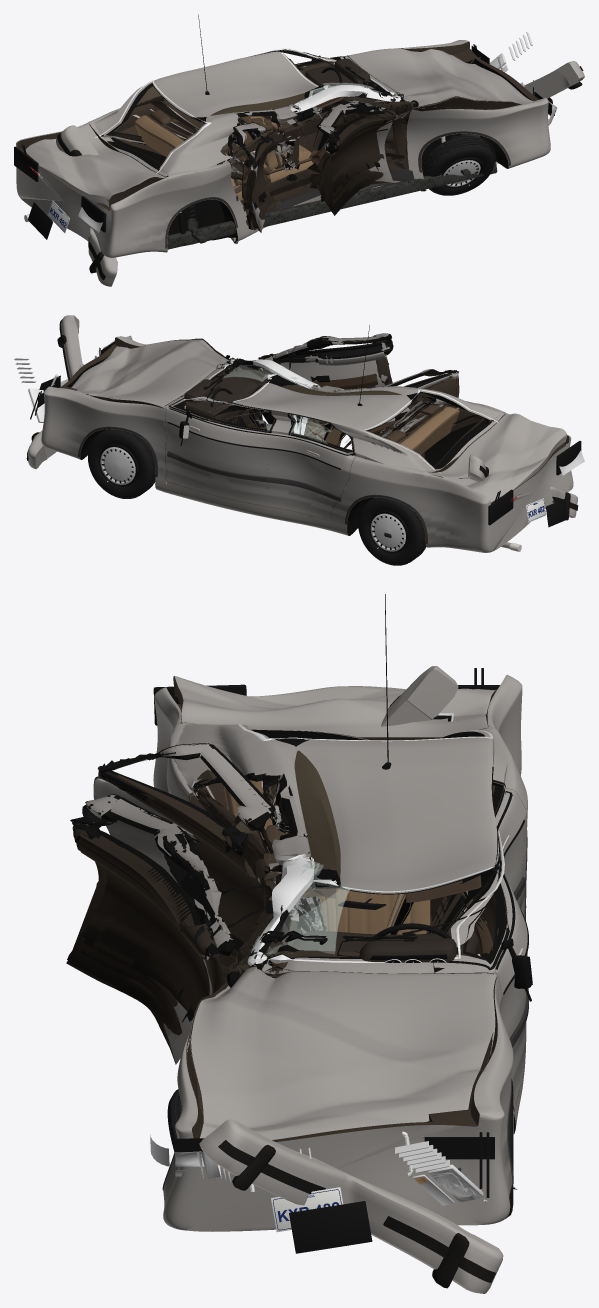
The model's file is sedan87_side_R_d3.glb.
The picture shows the model from 3 angles, top to bottom: view 1: azimuth 30°, elevation 25°; view 2: azimuth 150°, elevation 25°; view 3: azimuth 270°, elevation 25°; orthographic projection. The views are drawn at different scales.
Parts seen in each view (by area): view 1: Body, Hood, Door_FR, Trunk, Interior, Underbody, Wheel_FR_mesh, Ends, Glass, Door_RR, Bumper_R, Trim (+4 smaller); view 2: Body, Door_FL, Hood, Trunk, Door_RL, Interior, Wheel_FL_mesh, Door_FR, Wheel_RL_mesh, Ends, Glass, Bumper_F (+8 smaller); view 3: Body, Hood, Door_FR, Bumper_F, Door_RR, Trunk, Ends, Interior, Glass, Door_FL, Trim_FL, Bumper_R (+4 smaller).
Part boxes in pixels (left/top/right/bottom): Body: left=16, top=40, right=550, bottom=257; Hood: left=345, top=48, right=533, bottom=109; Door_FR: left=307, top=100, right=397, bottom=215; Trunk: left=25, top=124, right=164, bottom=207; Interior: left=134, top=58, right=393, bottom=200; Underbody: left=24, top=133, right=497, bottom=249; Wheel_FR_mesh: left=423, top=136, right=494, bottom=195; Ends: left=14, top=32, right=556, bottom=239; Glass: left=95, top=48, right=400, bottom=173; Door_RR: left=233, top=122, right=277, bottom=232; Bumper_R: left=56, top=125, right=117, bottom=286; Trim: left=165, top=14, right=510, bottom=248; Body: left=41, top=336, right=573, bottom=552; Door_FL: left=165, top=395, right=276, bottom=505; Hood: left=71, top=338, right=229, bottom=408; Trunk: left=429, top=413, right=566, bottom=502; Door_RL: left=263, top=412, right=356, bottom=520; Interior: left=182, top=364, right=459, bottom=454; Wheel_FL_mesh: left=88, top=429, right=155, bottom=498; Door_FR: left=258, top=333, right=393, bottom=387; Wheel_RL_mesh: left=358, top=497, right=425, bottom=565; Ends: left=14, top=335, right=584, bottom=527; Glass: left=184, top=358, right=498, bottom=478; Bumper_F: left=26, top=315, right=82, bottom=469; Body: left=153, top=675, right=527, bottom=1231; Hood: left=190, top=966, right=497, bottom=1139; Door_FR: left=66, top=794, right=235, bottom=1064; Bumper_F: left=199, top=1119, right=503, bottom=1293; Door_RR: left=93, top=743, right=275, bottom=982; Trunk: left=173, top=676, right=496, bottom=740; Ends: left=150, top=668, right=499, bottom=1253; Interior: left=224, top=778, right=481, bottom=967; Glass: left=229, top=713, right=504, bottom=966; Door_FL: left=434, top=835, right=527, bottom=1103; Trim_FL: left=337, top=826, right=532, bottom=1047; Bumper_R: left=381, top=666, right=458, bottom=726.
Bounding box in the file's own units: 5.18 × 1.96 × 2.01.
Materials: 33 (5 with a texture image).
